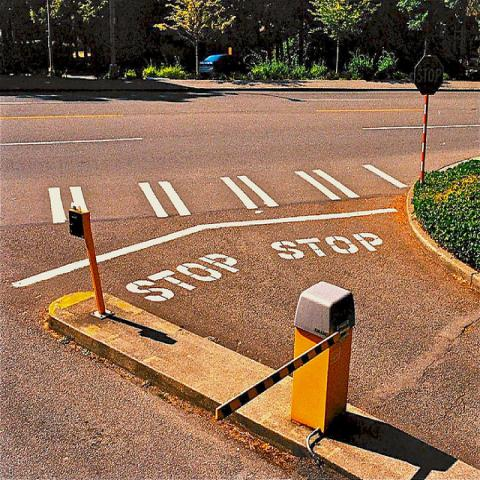car: (199, 54, 228, 76)
